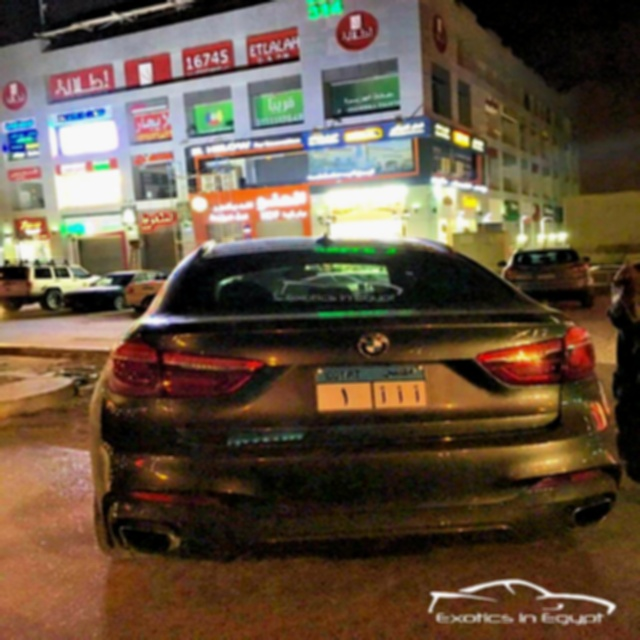License Plate: (312, 361, 430, 414)
